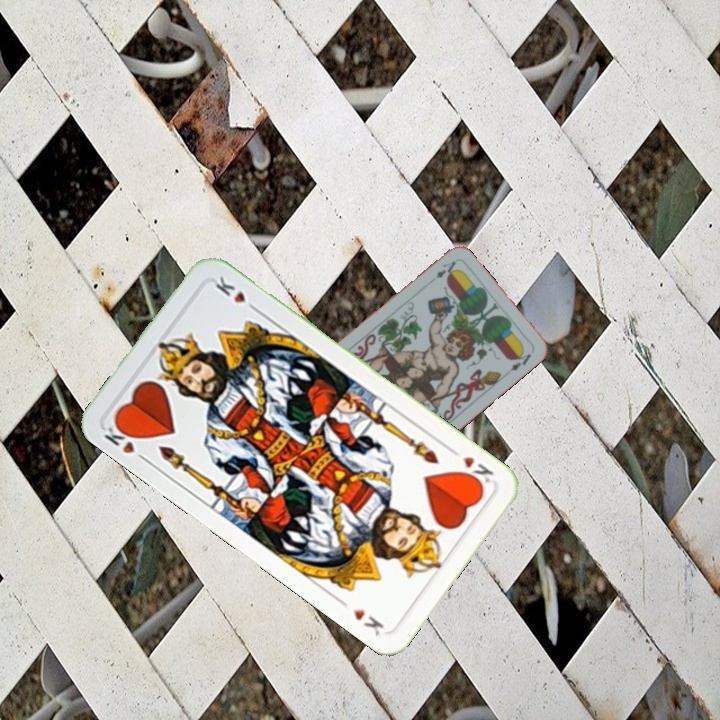EA: (424, 257, 459, 287)
HK: (99, 416, 151, 465), (445, 443, 496, 491)
